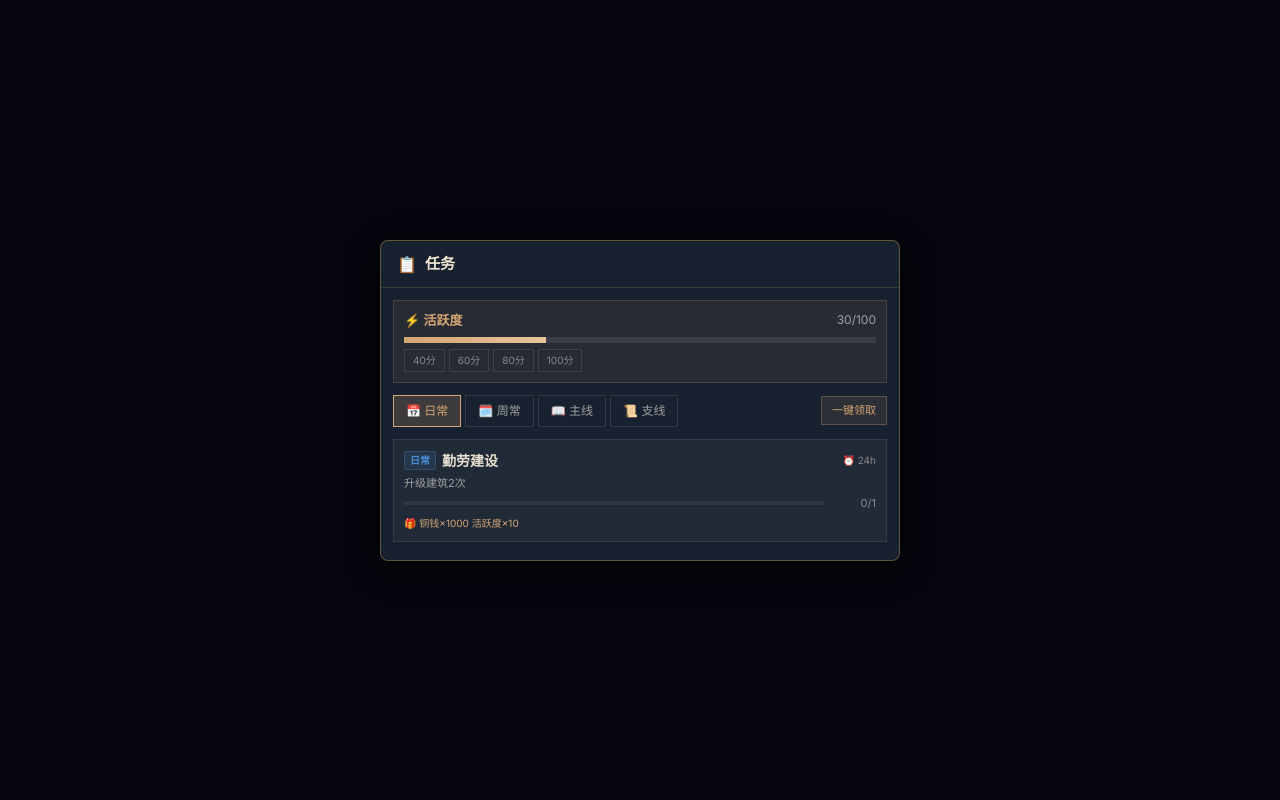
it: QuestPanel UI渲染测试 › 点击Tab切换到主线任务
The image size is (1280, 800).
Click the button with test id "quest-panel-tab-main": x=572, y=410 [538, 394, 606, 426]
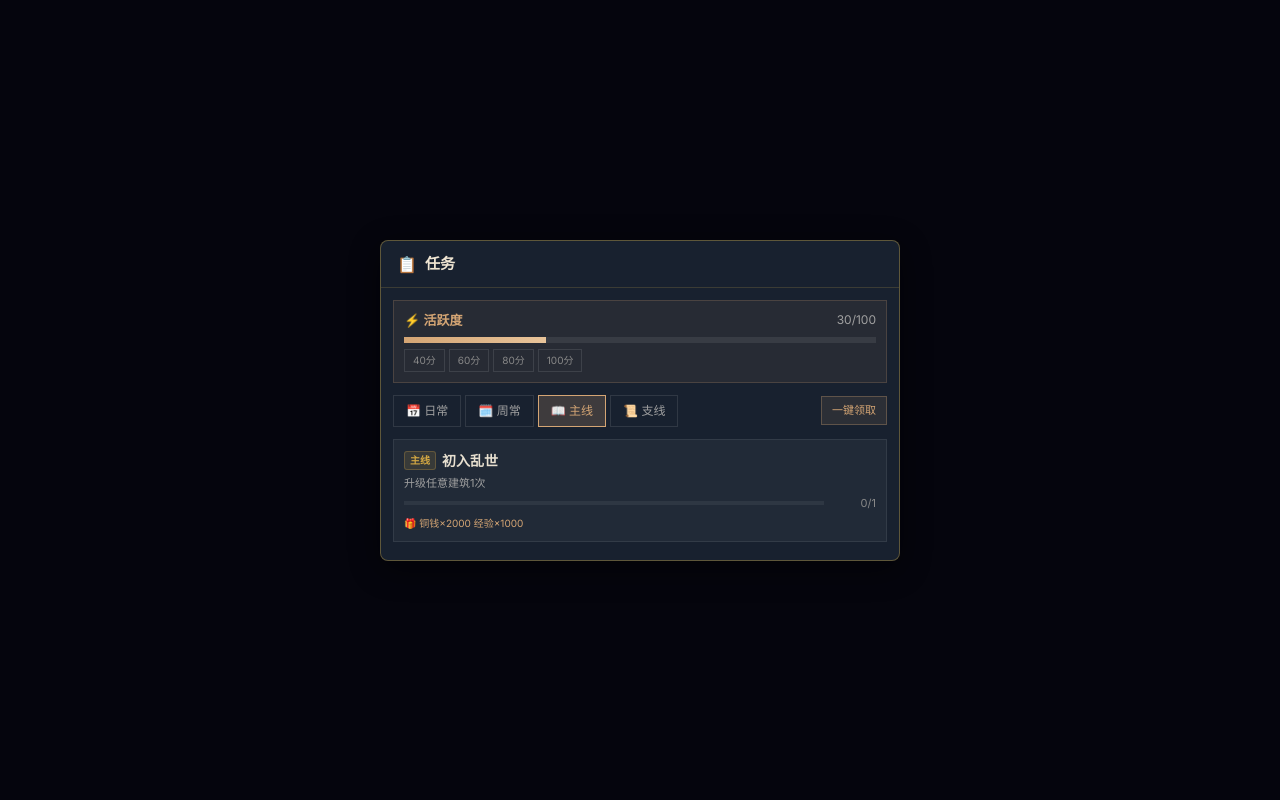
Expected: the text "初入乱世" is shown, [442, 452, 498, 468]
